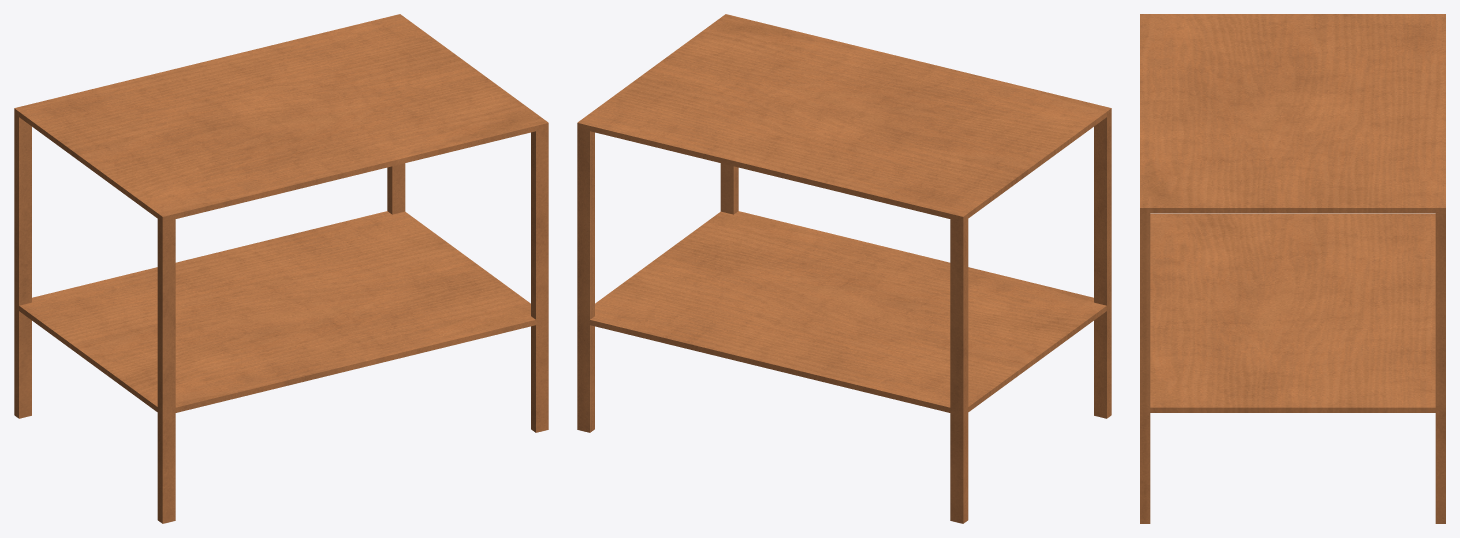
The model's file is TwoLevelTabel.fbx.
3 renders of one model, left to right at view 1: azimuth 30°, elevation 25°; view 2: azimuth 150°, elevation 25°; view 3: azimuth 270°, elevation 25°, orthographic. The views are drawn at different scales.
Visible parts, largest first — view 1: Cube.041; view 2: Cube.041; view 3: Cube.041.
Boxes of the visible parts, x1,y1,x2,y2 form: Cube.041: (14,14,548,523); Cube.041: (577,14,1111,523); Cube.041: (1140,14,1445,523).
Bounding box in the file's own units: 0.75 × 0.5 × 0.57.
Materials: 1 (1 with a texture image).
